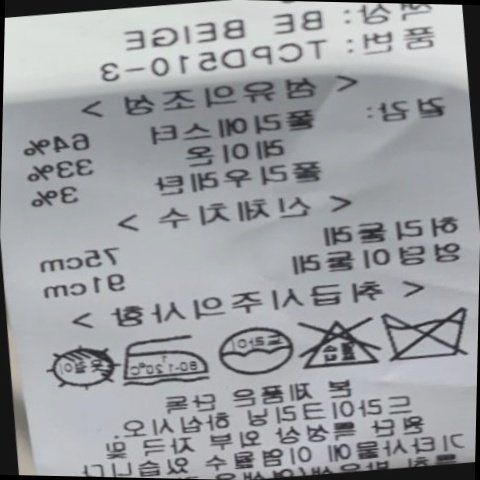DN_wash: (374, 302, 475, 373)
dry_clean: (214, 322, 294, 385)
iron_low: (116, 324, 208, 391)
line_dry_in_shade: (40, 333, 117, 399)
non_chlorine_bleach: (290, 308, 380, 379)
